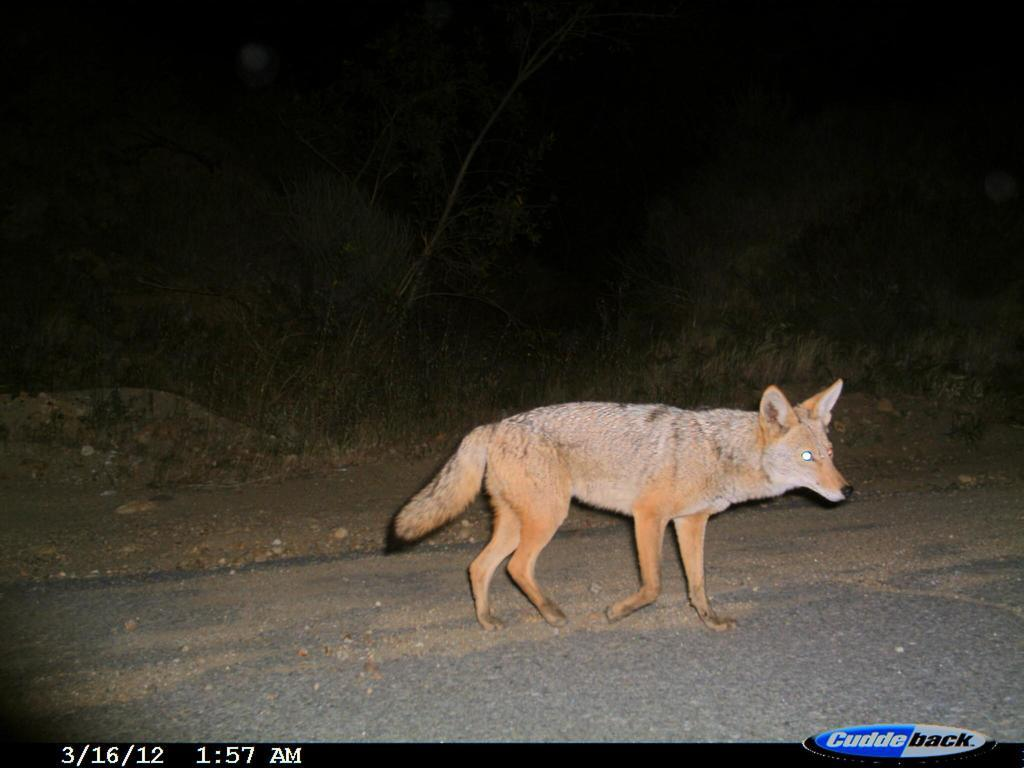coyote: (383, 373, 861, 638)
